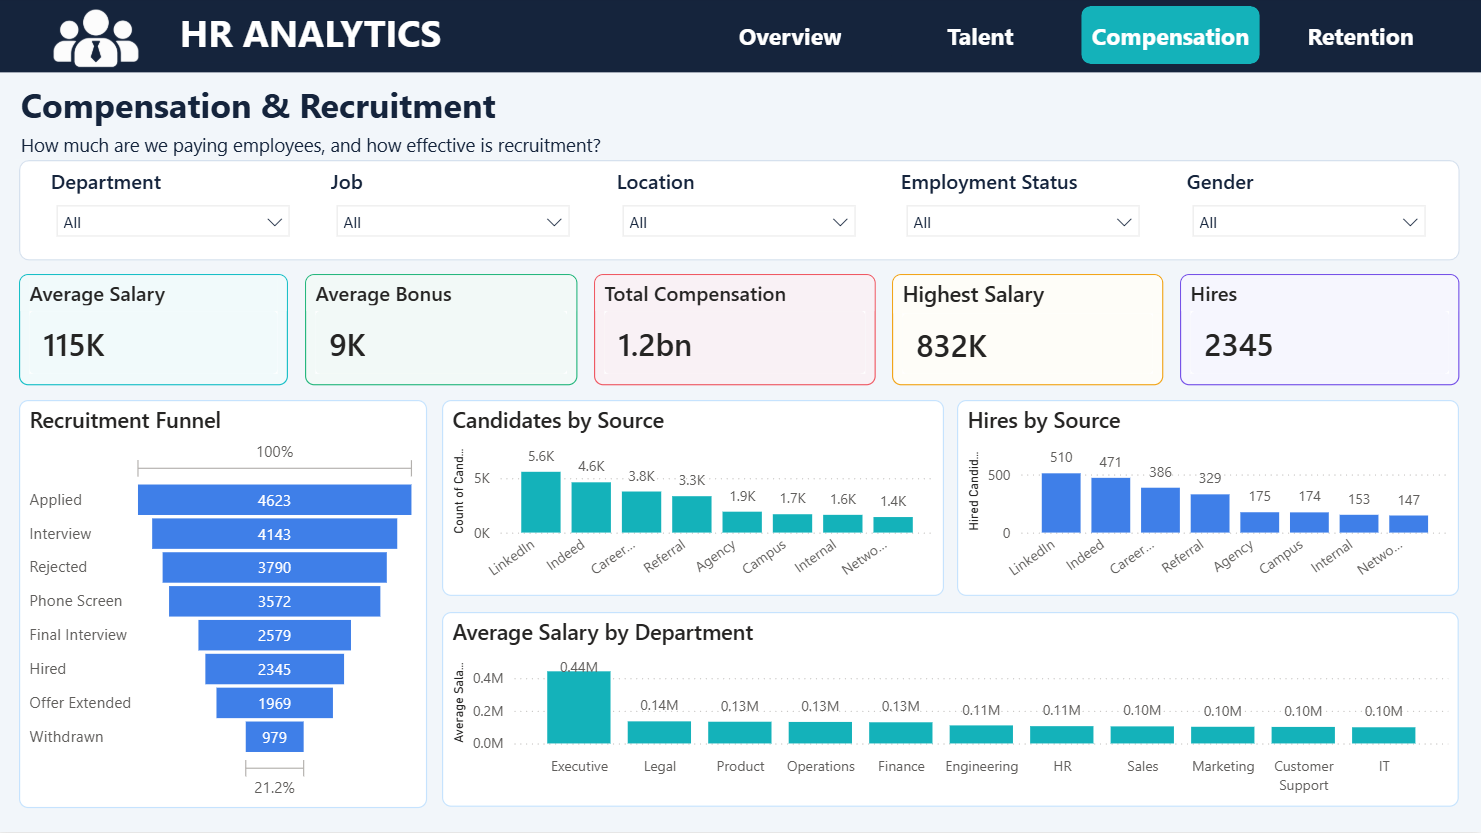

This screenshot's page, from the dashboard's own definition file:
{"tool":"powerbi","page":{"name":"Compensation","canvas":[1280,720],"ordinal":2},"visuals":[{"type":"shape","box":[0,0,1280,65],"z":0},{"type":"image","box":[41.7,3.3,87.7,59.2],"z":1000},{"type":"textbox","title":"HR ANALYTICS","box":[152.5,7.7,263.2,49.4],"z":2000},{"type":"pageNavigator","box":[607.6,7.7,648.2,50.5],"z":3000},{"type":"textbox","title":"Compensation & Recruitment","box":[15.8,72.9,514,67.9],"z":4000},{"type":"shape","box":[18.7,140.8,1242.6,86.6],"z":5000},{"type":"slicer","title":"Department","fields":{"Values":["hr_analytics dim_departments.DepartmentName"]},"box":[41.4,146.7,221,74.8],"z":6000},{"type":"slicer","title":"Job","fields":{"Values":["hr_analytics dim_jobs.JobTitle"]},"box":[282.6,146.7,220.6,74.8],"z":7000},{"type":"slicer","title":"Location","fields":{"Values":["hr_analytics dim_locations.LocationName"]},"box":[529.7,146.7,220.6,74.8],"z":8000},{"type":"slicer","title":"Employment Status","fields":{"Values":["hr_analytics dim_employees.EmploymentStatus"]},"box":[774.9,146.7,220.6,74.8],"z":9000},{"type":"slicer","title":"Gender","fields":{"Values":["hr_analytics dim_employee_demographics.GenderIdentity"]},"box":[1021,146.7,220.6,74.8],"z":10000},{"type":"cardVisual","title":"Average Salary","fields":{"Data":["MeasuresTable.Average Salary2"]},"box":[18.7,239.3,232.4,95.5],"z":11000},{"type":"cardVisual","title":"Average Bonus","fields":{"Data":["MeasuresTable.Average Bonus"]},"box":[265.8,239.3,235.3,95.5],"z":12000},{"type":"cardVisual","title":"Total Compensation","fields":{"Data":["MeasuresTable.Total Compensation"]},"box":[515,239.3,243.2,95.5],"z":13000},{"type":"cardVisual","title":"Highest Salary","fields":{"Data":["MeasuresTable.Highest Salary"]},"box":[771.9,239.3,234.3,95.5],"z":14000},{"type":"cardVisual","title":"Hires","fields":{"Data":["MeasuresTable.Hired Candidates"]},"box":[1020.1,239.3,241.2,95.5],"z":15000},{"type":"clusteredColumnChart","title":"Average Salary by Department","fields":{"Category":["hr_analytics dim_departments.DepartmentName"],"Y":["MeasuresTable.Average Salary2"]},"box":[384,530.7,877.3,168.4],"z":16000},{"type":"funnel","title":"Recruitment Funnel","fields":{"Category":["hr_analytics vw_recruitment_funnel.CurrentStage"],"Y":["Sum(hr_analytics vw_recruitment_funnel.Candidates)"]},"box":[18.7,347.6,352.5,351.5],"z":17000},{"type":"clusteredColumnChart","title":"Candidates by Source","fields":{"Category":["hr_analytics fact_candidates.Source"],"Y":["CountNonNull(hr_analytics fact_candidates.CandidateID)"]},"box":[384,347.6,433.2,169.4],"z":18000},{"type":"clusteredColumnChart","title":"Hires by Source","fields":{"Category":["hr_analytics fact_candidates.Source"],"Y":["MeasuresTable.Hired Candidates"]},"box":[828.1,347.6,433.2,169.4],"z":19000}]}

Visuals, with their boxes in screenshot pixels (x1, y1, x2, y2), scaled from the page's 1280x720 canvas onto the 1481x833 screenshot:
shape: (x1=0, y1=0, x2=1480, y2=75)
image: (x1=48, y1=4, x2=150, y2=72)
"HR ANALYTICS" textbox: (x1=176, y1=9, x2=481, y2=66)
pageNavigator: (x1=703, y1=9, x2=1453, y2=67)
"Compensation & Recruitment" textbox: (x1=18, y1=84, x2=613, y2=163)
shape: (x1=22, y1=163, x2=1459, y2=263)
"Department" slicer: (x1=48, y1=170, x2=304, y2=256)
"Job" slicer: (x1=327, y1=170, x2=582, y2=256)
"Location" slicer: (x1=613, y1=170, x2=868, y2=256)
"Employment Status" slicer: (x1=897, y1=170, x2=1152, y2=256)
"Gender" slicer: (x1=1181, y1=170, x2=1437, y2=256)
"Average Salary" cardVisual: (x1=22, y1=277, x2=291, y2=387)
"Average Bonus" cardVisual: (x1=308, y1=277, x2=580, y2=387)
"Total Compensation" cardVisual: (x1=596, y1=277, x2=877, y2=387)
"Highest Salary" cardVisual: (x1=893, y1=277, x2=1164, y2=387)
"Hires" cardVisual: (x1=1180, y1=277, x2=1459, y2=387)
"Average Salary by Department" clusteredColumnChart: (x1=444, y1=614, x2=1459, y2=809)
"Recruitment Funnel" funnel: (x1=22, y1=402, x2=429, y2=809)
"Candidates by Source" clusteredColumnChart: (x1=444, y1=402, x2=946, y2=598)
"Hires by Source" clusteredColumnChart: (x1=958, y1=402, x2=1459, y2=598)
